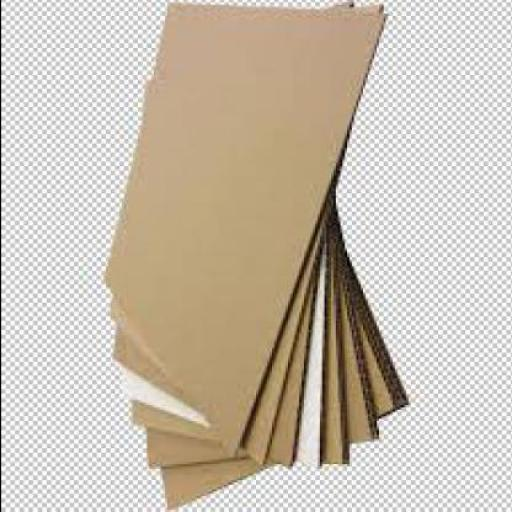cardboard: (103, 2, 405, 511), (102, 6, 385, 460), (109, 2, 369, 466)
